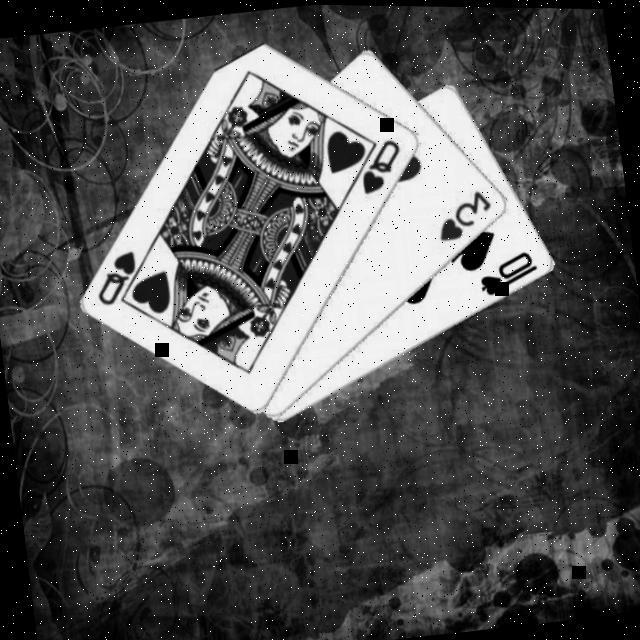10S: (472, 242, 542, 296)
3H: (430, 181, 497, 243)
QH: (88, 242, 158, 308), (353, 131, 408, 195)
